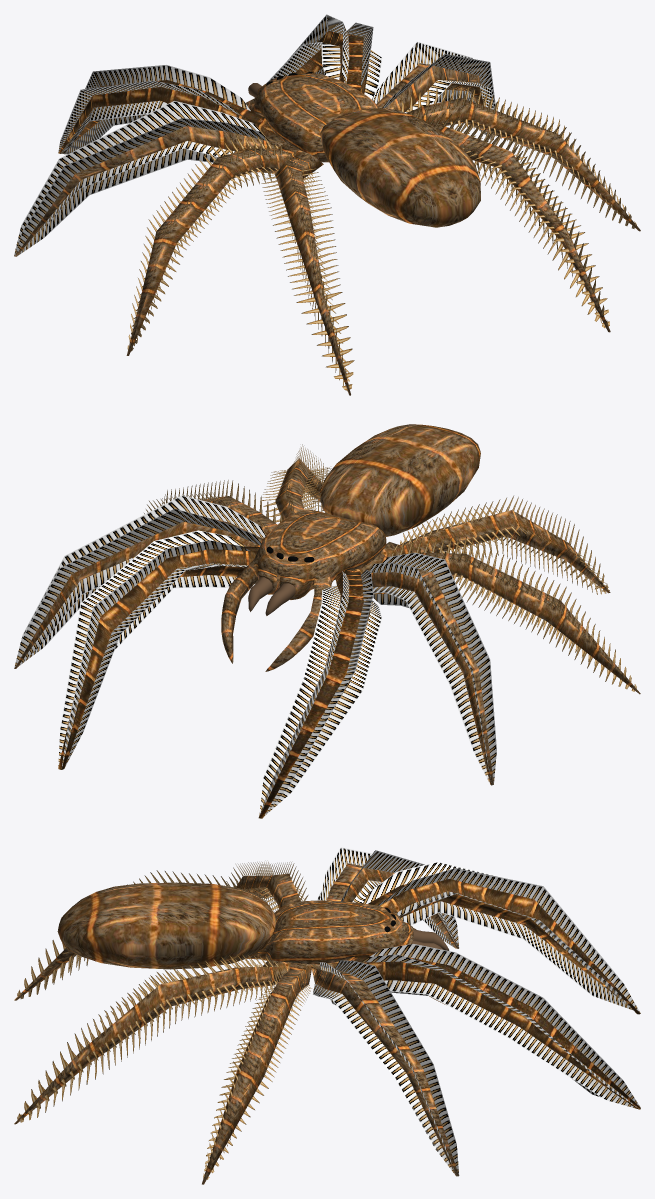
File: Only_Spider_with_Animations_Export.obj
3 renders of one model, top to bottom at view 1: azimuth 30°, elevation 25°; view 2: azimuth 150°, elevation 25°; view 3: azimuth 270°, elevation 25°, orthographic. The views are drawn at different scales.
Parts seen in each view (by area): view 1: Spider_Spider.005, Spider_Fur_Spider; view 2: Spider_Spider.005, Spider_Fur_Spider, Spider_teeth_Spider.004; view 3: Spider_Spider.005, Spider_Fur_Spider, Spider_teeth_Spider.004.
Part boxes in pixels (left/top/right/bottom): Spider_Spider.005: left=14, top=31, right=640, bottom=395; Spider_Fur_Spider: left=14, top=14, right=636, bottom=391; Spider_Spider.005: left=14, top=424, right=640, bottom=818; Spider_Fur_Spider: left=14, top=444, right=636, bottom=817; Spider_teeth_Spider.004: left=248, top=577, right=295, bottom=615; Spider_Spider.005: left=14, top=863, right=640, bottom=1184; Spider_Fur_Spider: left=17, top=847, right=640, bottom=1179; Spider_teeth_Spider.004: left=412, top=929, right=449, bottom=950.
Size of the model in its own units: 184 by 59.43 by 199.
6 materials, 4 textured.
